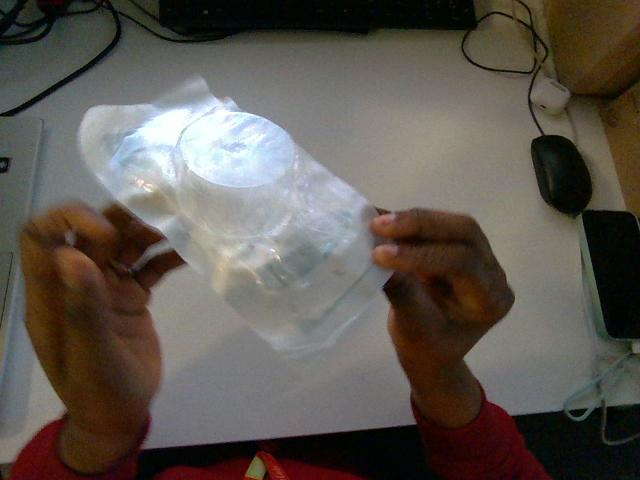gallipot: (78, 78, 389, 354)
